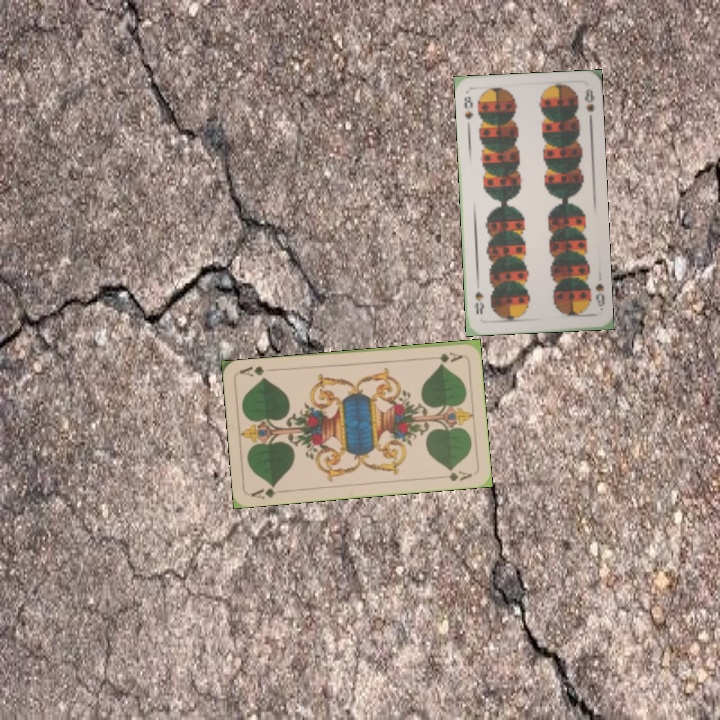GA: (247, 481, 288, 502), (425, 348, 465, 365)
S8: (591, 279, 607, 313), (460, 92, 476, 122)
